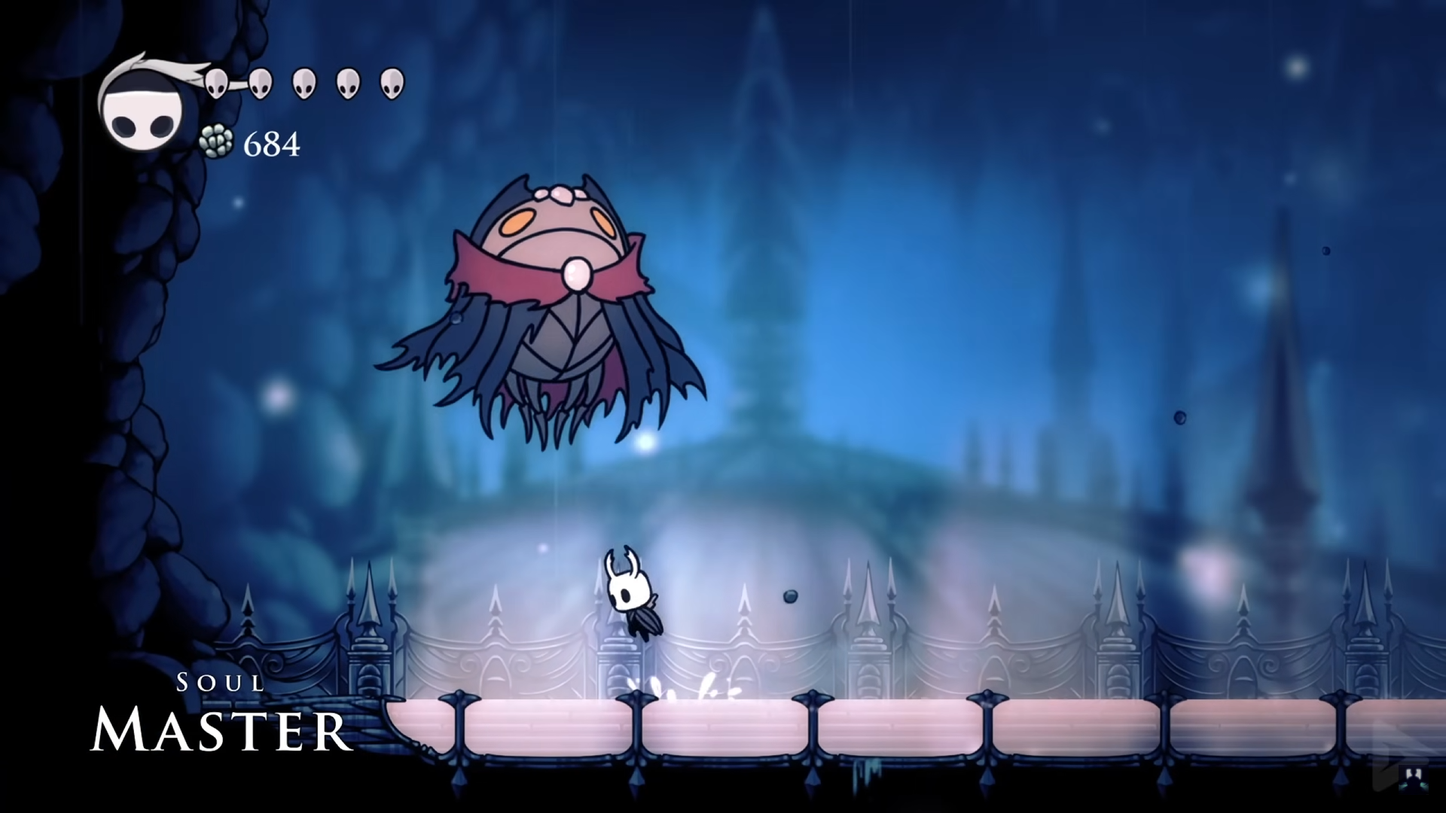HK: (602, 542, 663, 646)
